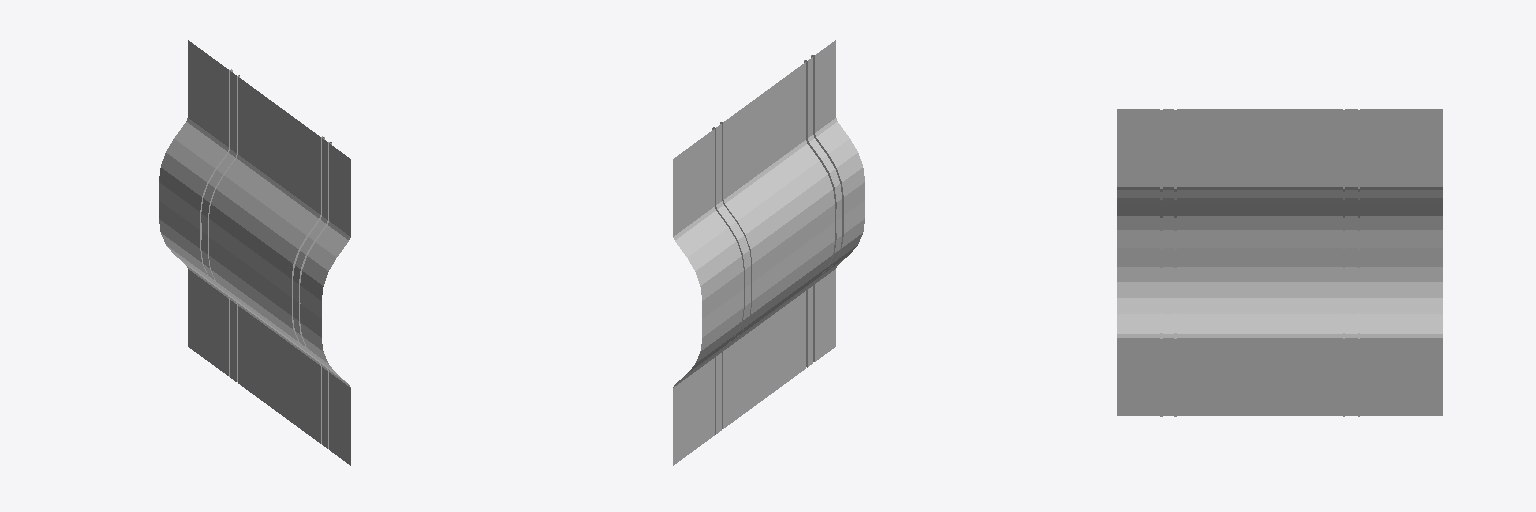
File: pared_2.obj
3 views of the same model, side by side, from view 1: azimuth 30°, elevation 25°; view 2: azimuth 150°, elevation 25°; view 3: azimuth 270°, elevation 25° (orthographic).
Visible parts, largest first — view 1: polySurface7 pared_low1; view 2: polySurface7 pared_low1; view 3: polySurface7 pared_low1.
Boxes of the visible parts, <box> form: polySurface7 pared_low1: <box>159,40,350,465</box>; polySurface7 pared_low1: <box>673,40,864,465</box>; polySurface7 pared_low1: <box>1117,109,1442,416</box>.
Bounding box in the file's own units: 0.5576 × 5.18 × 4.99.